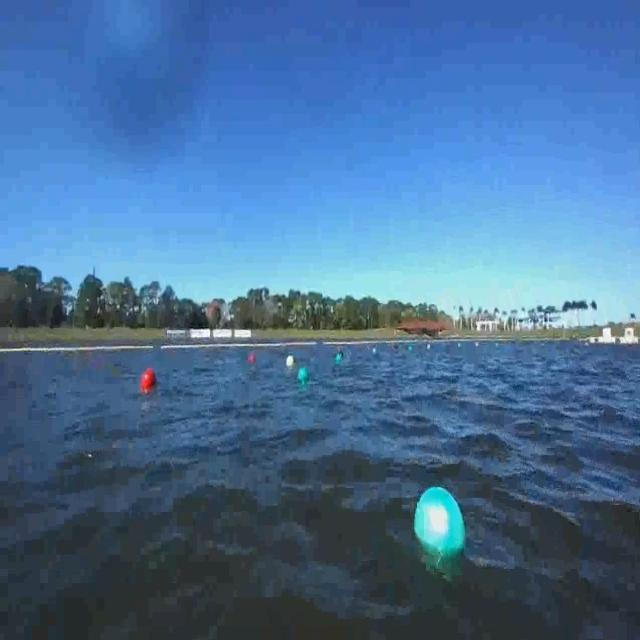green-buoy: (412, 483, 467, 571), (298, 366, 308, 382), (300, 368, 310, 384)
red-buoy: (141, 367, 159, 391)
